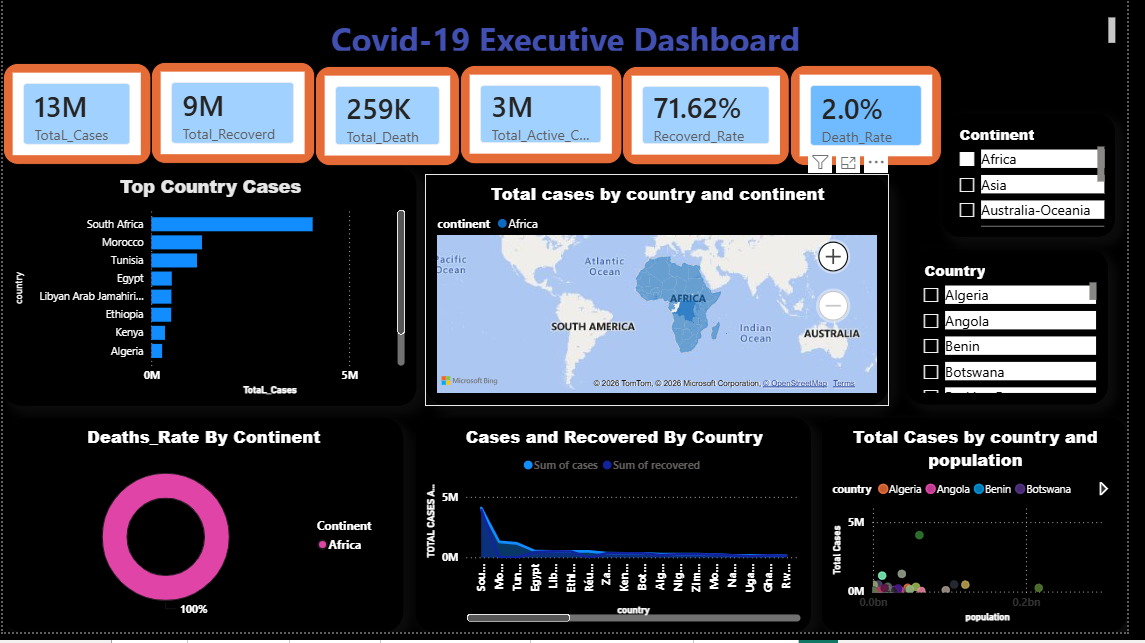

Layout of this report page (visuals, bound fields, positions):
{"tool":"powerbi","page":{"name":"Page 1","canvas":[1280,720],"ordinal":8},"visuals":[{"type":"textbox","box":[10.3,6.8,1270.3,61.5],"z":0},{"type":"cardVisual","fields":{"Data":["Covid_19.TotaL_Cases"]},"box":[10.3,66.1,149.2,105.9],"z":1},{"type":"cardVisual","fields":{"Data":["Covid_19.Total_Recoverd"]},"box":[159.5,67.2,165.2,104.8],"z":2},{"type":"cardVisual","fields":{"Data":["Covid_19.Total_Death"]},"box":[324.7,68.4,156.1,107.1],"z":3},{"type":"cardVisual","fields":{"Data":["Covid_19.Total_Active_Cases"]},"box":[480.8,68.4,165.2,107.1],"z":4},{"type":"cardVisual","fields":{"Data":["Covid_19.Recoverd_Percentage"]},"box":[640.3,68.4,165.2,107.1],"z":5},{"type":"cardVisual","fields":{"Data":["Covid_19.Death_Percentage"]},"box":[805.4,68.4,143.5,105.9],"z":6},{"type":"clusteredBarChart","title":"Top Country Cases","fields":{"Category":["Covid_19.country"],"Y":["Covid_19.TotaL_Cases"]},"box":[0,188,470.5,291.6],"z":7},{"type":"filledMap","title":"Total cases by country and continent","fields":{"Category":["Covid_19.country"],"Series":["Covid_19.continent"]},"box":[480.8,188,532,249.5],"z":8},{"type":"donutChart","title":"Deaths_Rate By Continent","fields":{"Category":["Covid_19.continent"],"Y":["Sum(Covid_19.deaths)"]},"box":[0,500.1,470.5,219.9],"z":9},{"type":"lineChart","title":"Cases and Recovered By Country","fields":{"Category":["Covid_19.country"],"Y":["Sum(Covid_19.cases)","Sum(Covid_19.recovered)"]},"box":[480.8,463.7,458,256.3],"z":10},{"type":"scatterChart","title":"Total Cases by country and population","fields":{"Y":["Sum(Covid_19.cases)"],"X":["Covid_19.population"],"Series":["Covid_19.country"]},"box":[949,460.3,331.5,259.7],"z":11},{"type":"slicer","fields":{"Values":["Covid_19.country"]},"box":[1029.9,296.2,206.2,126.5],"z":12},{"type":"slicer","fields":{"Values":["Covid_19.continent"]},"box":[1029.9,154.9,206.2,119.6],"z":13}]}

Visuals, with their boxes in screenshot pixels (x1, y1, x2, y2), scaled from the page's 1280x720 canvas onto the 1145x643 screenshot:
textbox: x1=9, y1=6, x2=1144, y2=61
cardVisual - Covid_19.TotaL_Cases: x1=9, y1=59, x2=143, y2=154
cardVisual - Covid_19.Total_Recoverd: x1=143, y1=60, x2=290, y2=154
cardVisual - Covid_19.Total_Death: x1=290, y1=61, x2=430, y2=157
cardVisual - Covid_19.Total_Active_Cases: x1=430, y1=61, x2=578, y2=157
cardVisual - Covid_19.Recoverd_Percentage: x1=573, y1=61, x2=721, y2=157
cardVisual - Covid_19.Death_Percentage: x1=720, y1=61, x2=849, y2=156
"Top Country Cases" clusteredBarChart: x1=0, y1=168, x2=421, y2=428
"Total cases by country and continent" filledMap: x1=430, y1=168, x2=906, y2=391
"Deaths_Rate By Continent" donutChart: x1=0, y1=447, x2=421, y2=642
"Cases and Recovered By Country" lineChart: x1=430, y1=414, x2=840, y2=642
"Total Cases by country and population" scatterChart: x1=849, y1=411, x2=1144, y2=642
slicer - Covid_19.country: x1=921, y1=265, x2=1106, y2=377
slicer - Covid_19.continent: x1=921, y1=138, x2=1106, y2=245
